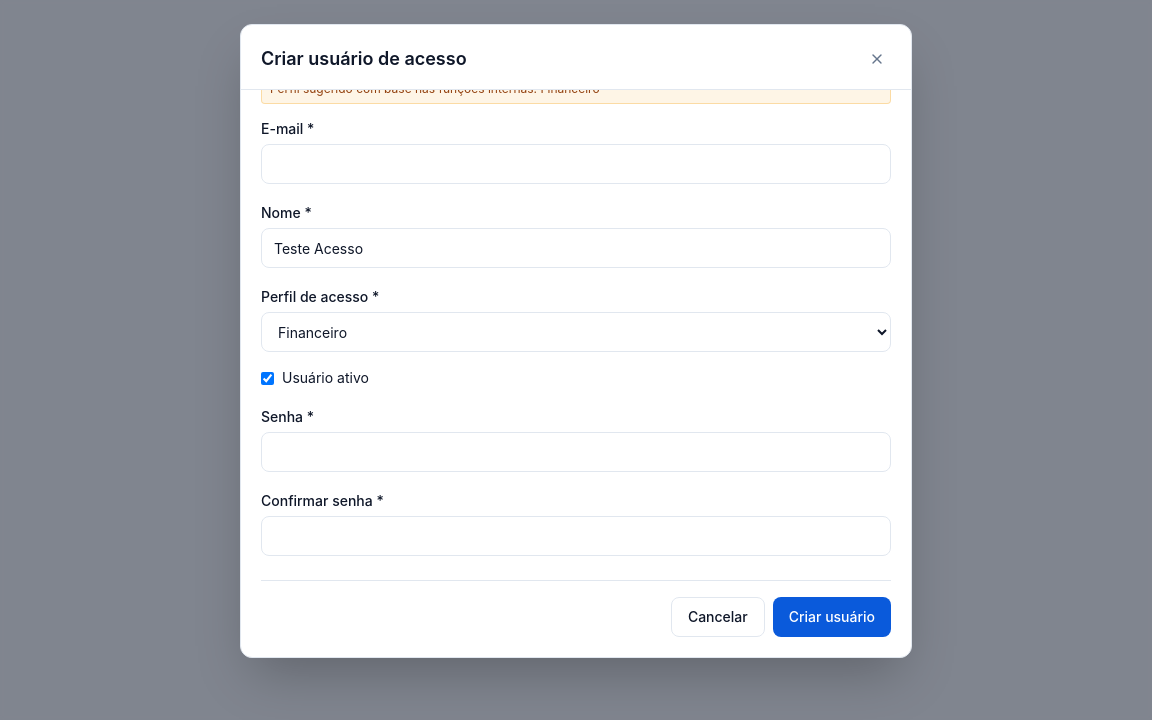
Test case: CriarUsuarioColaboradorModal › exige e-mail
(page scrolled)
Click the button "Criar usuário".
click(832, 617)  # box x1=773 y1=597 x2=891 y2=637
(page scrolled)
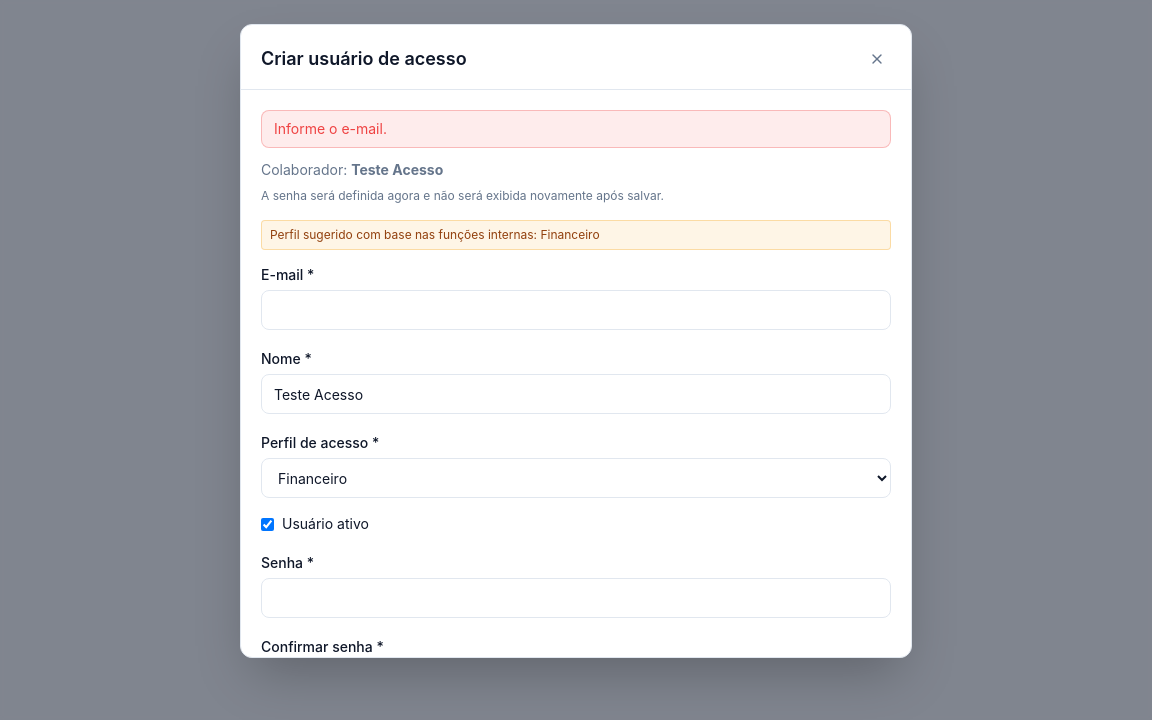
expect the text "Informe o e-mail." is shown: met, box x1=261 y1=110 x2=891 y2=148
